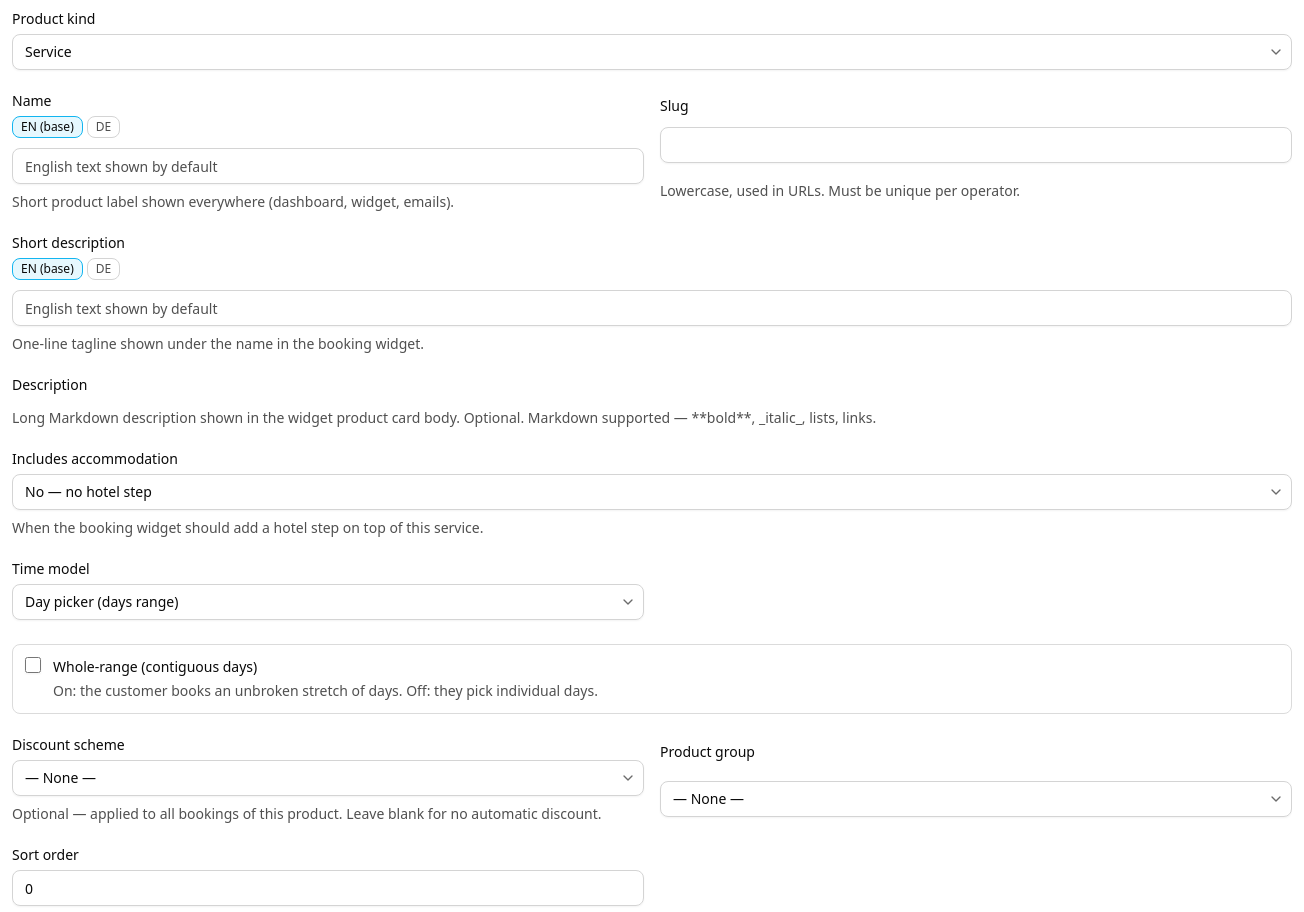
Test: ProductForm — package gating (landr-5eb) › shows the physical_good-specific placeholder body for physical_good
Select "Physical good" in the dropdown labelled "Product kind". click: (652, 52)
box: [12,34,1292,70]
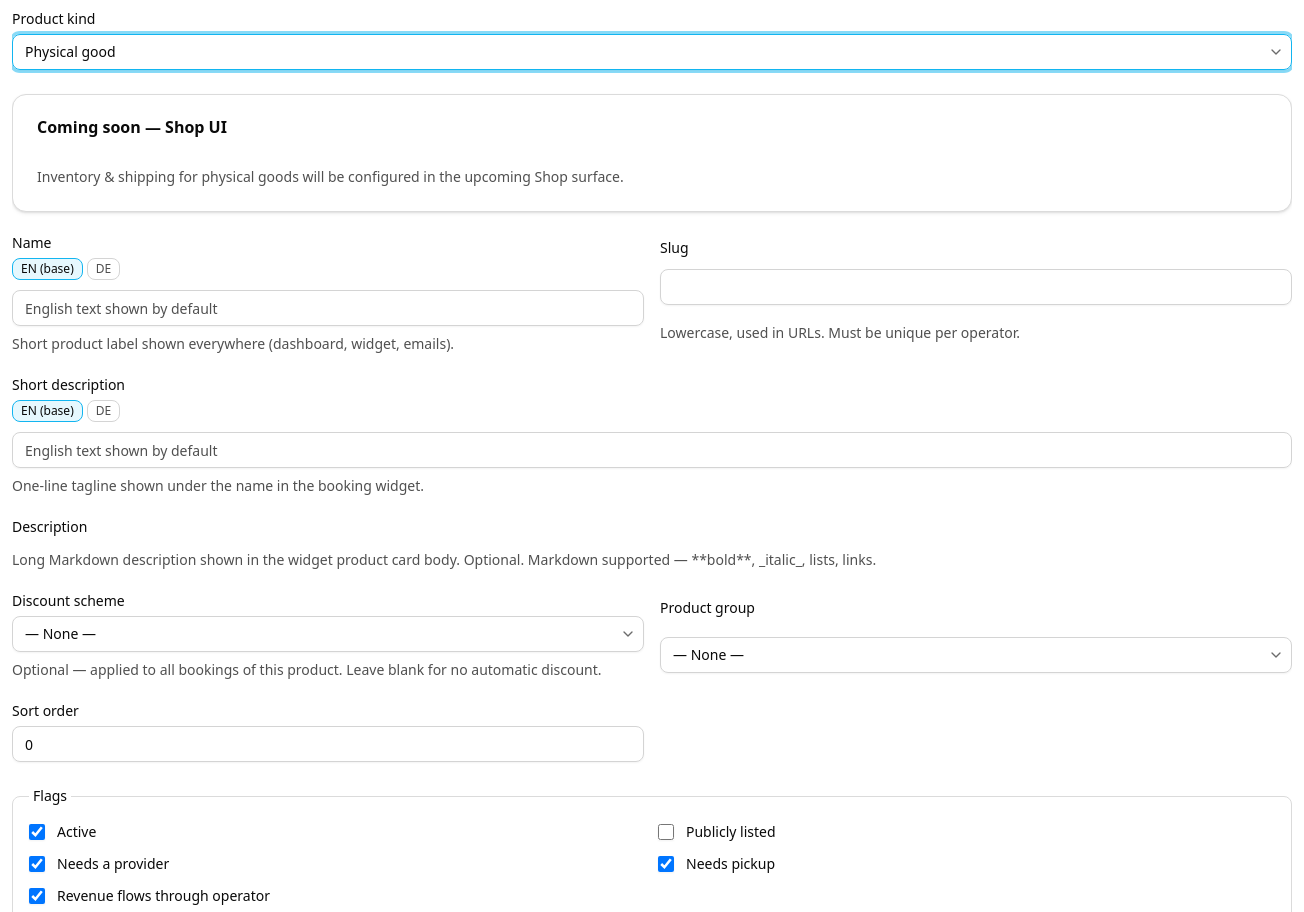
Check: the text "Inventory & shipping for physical goods" is shown, box [37,167,624,186]
